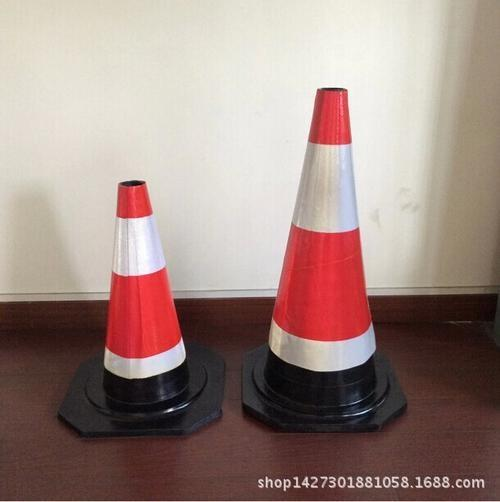cone_barrel: (245, 95, 397, 426), (81, 185, 203, 420)
